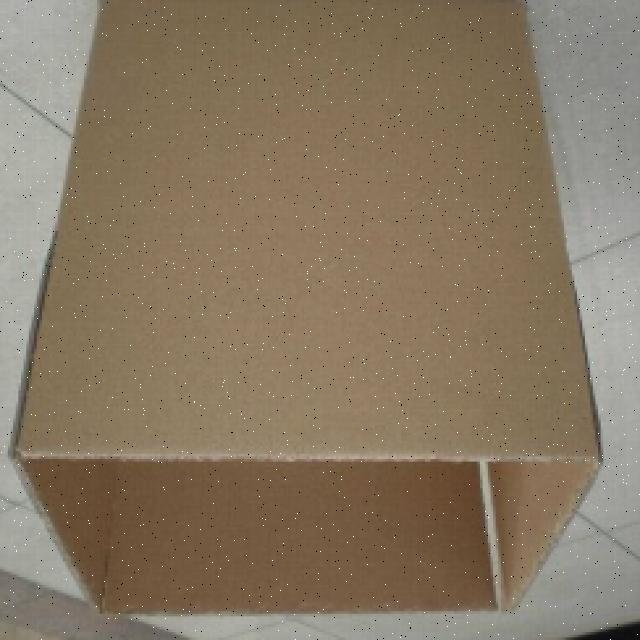box: (23, 0, 620, 632)
